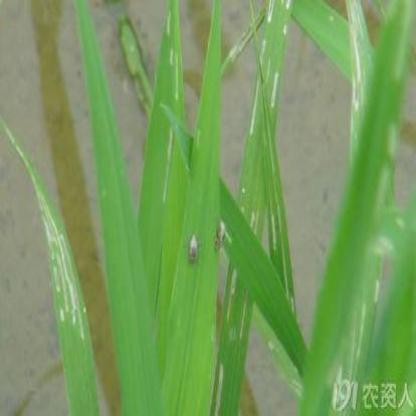rice-bug: (214, 218, 228, 254), (188, 232, 199, 266)
